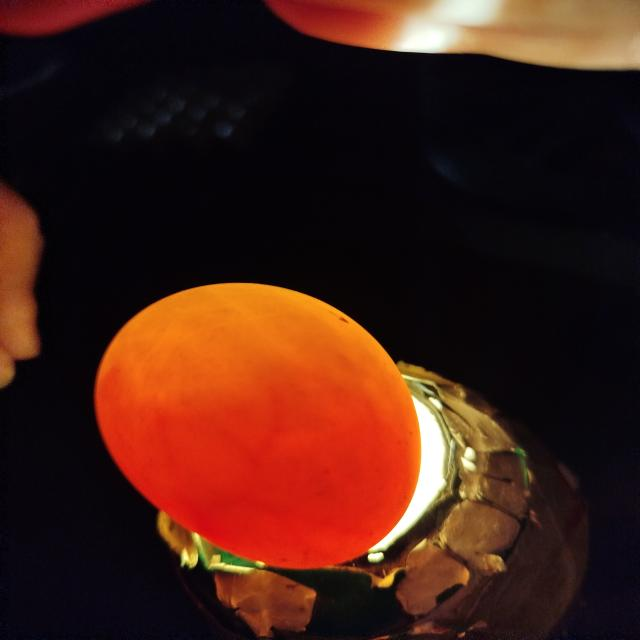Gema Quebrada: (107, 373, 421, 568)
